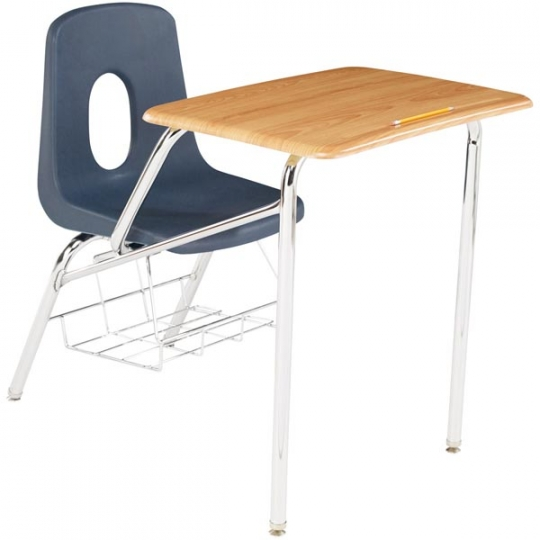desk: (1, 1, 537, 539)
